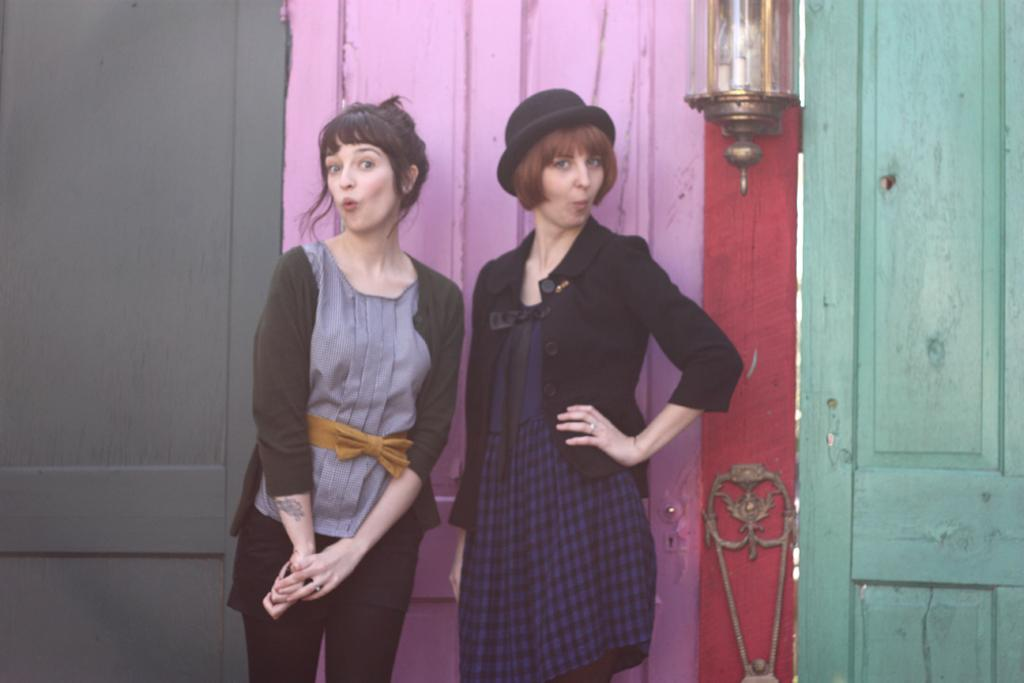Hat: (494, 88, 614, 200)
